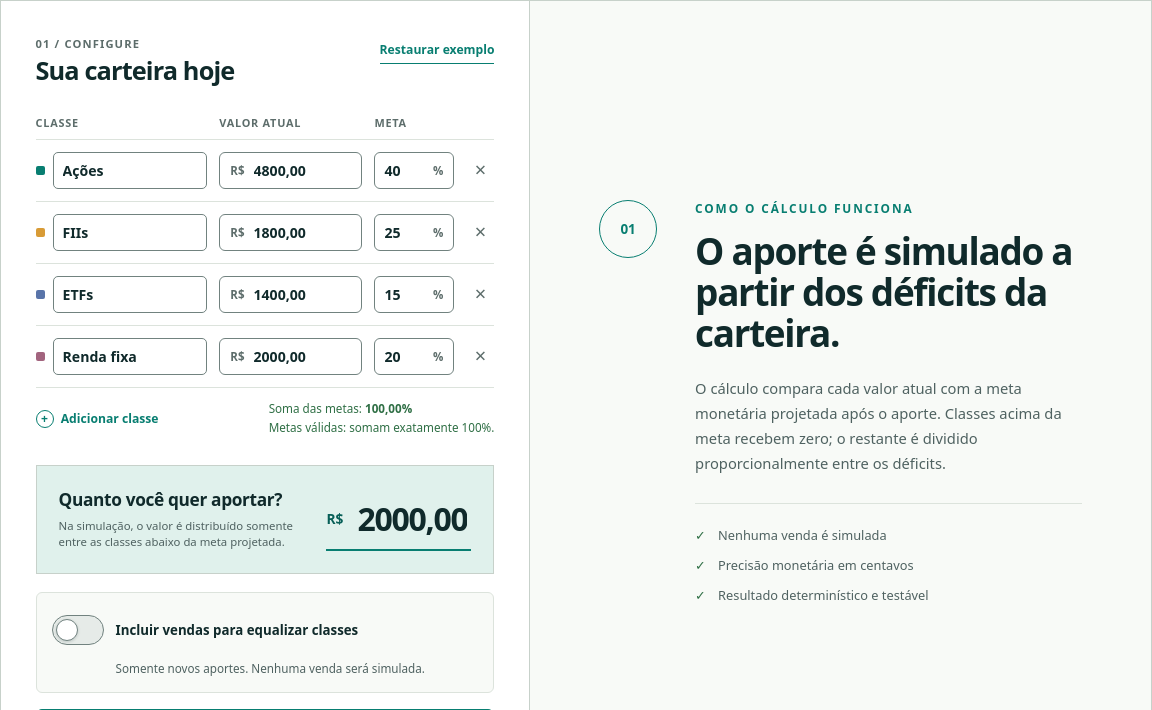
Test: ContributionSimulator › completes cents when a monetary input is confirmed
This screenshot has width=1152, height=710.
Step 1. Replace the text in the field named "Valor atual de Ações" with "4800" → coordinates (303, 170), box top-left (244, 153), bottom-right (362, 188)
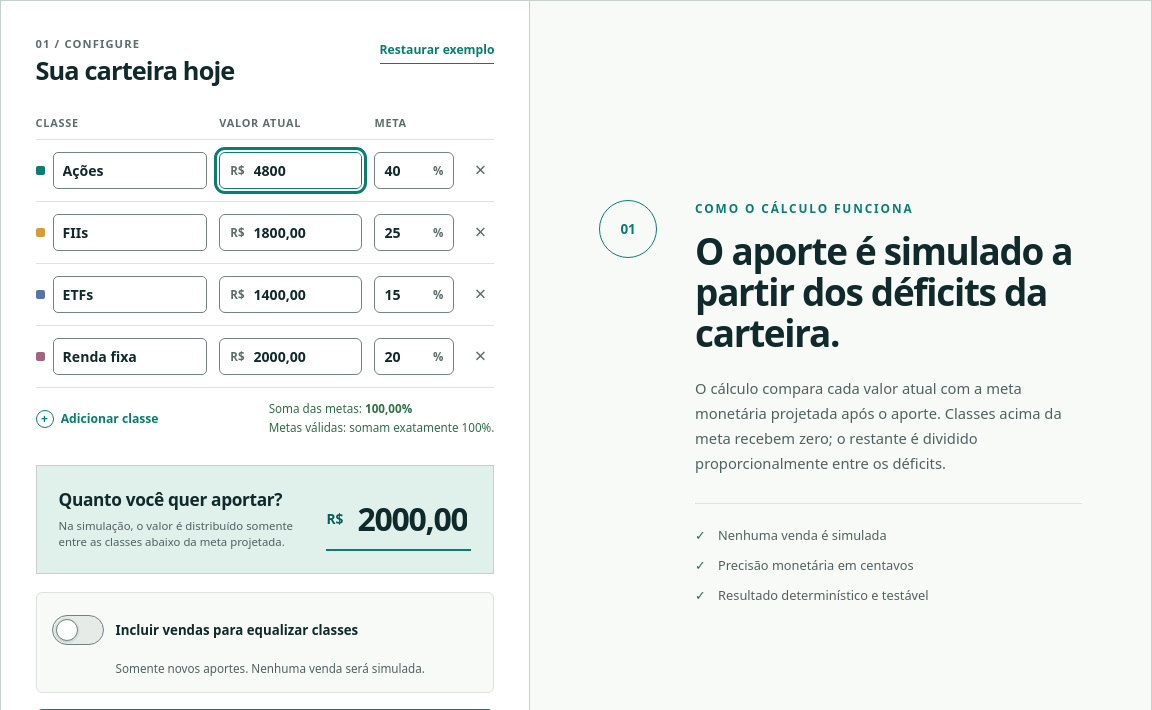
Step 2. Press Enter
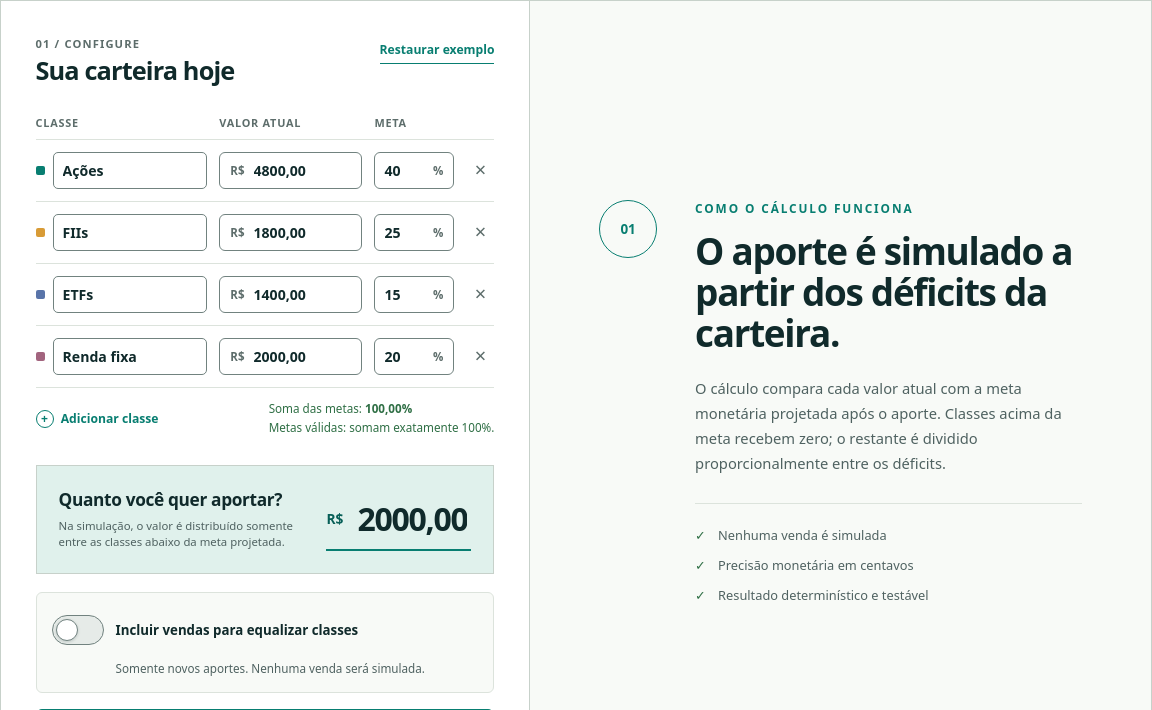
Expected: the field named "Valor atual de Ações" holds "4800,00", top-left (244, 153), bottom-right (362, 188)
Step 3. Replace the text in the field labelled "Quanto você quer aportar?" with "2500" → coordinates (407, 518), box top-left (343, 491), bottom-right (471, 546)
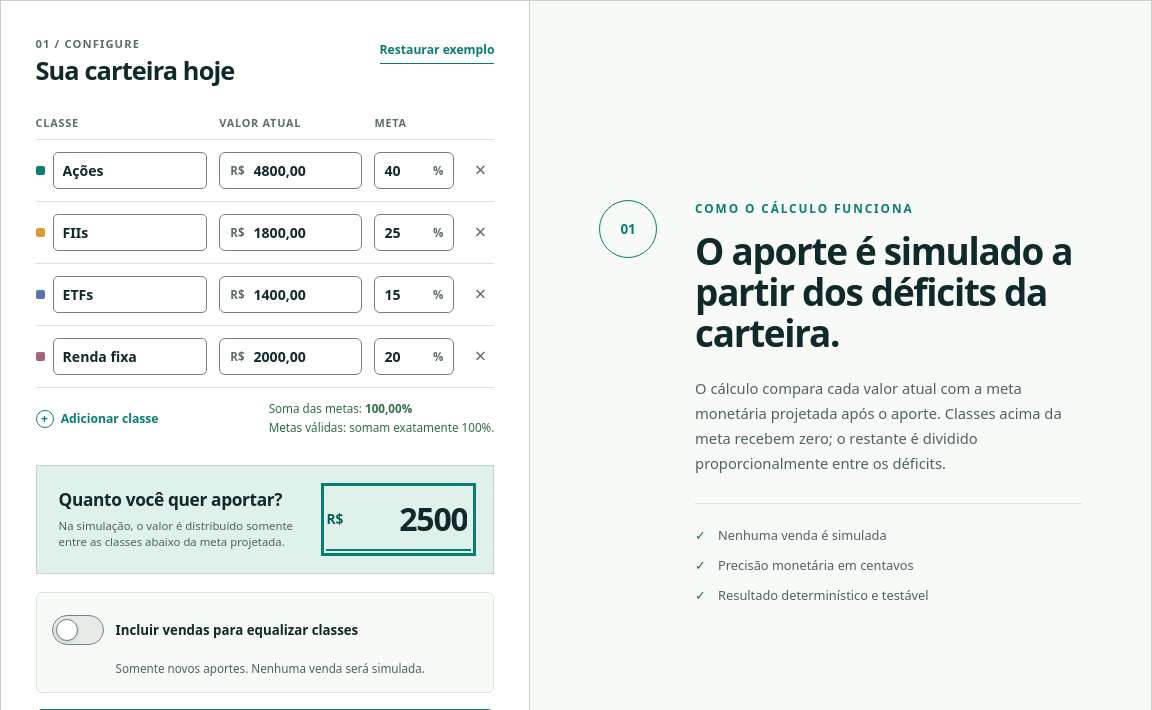
Step 4. Press Tab
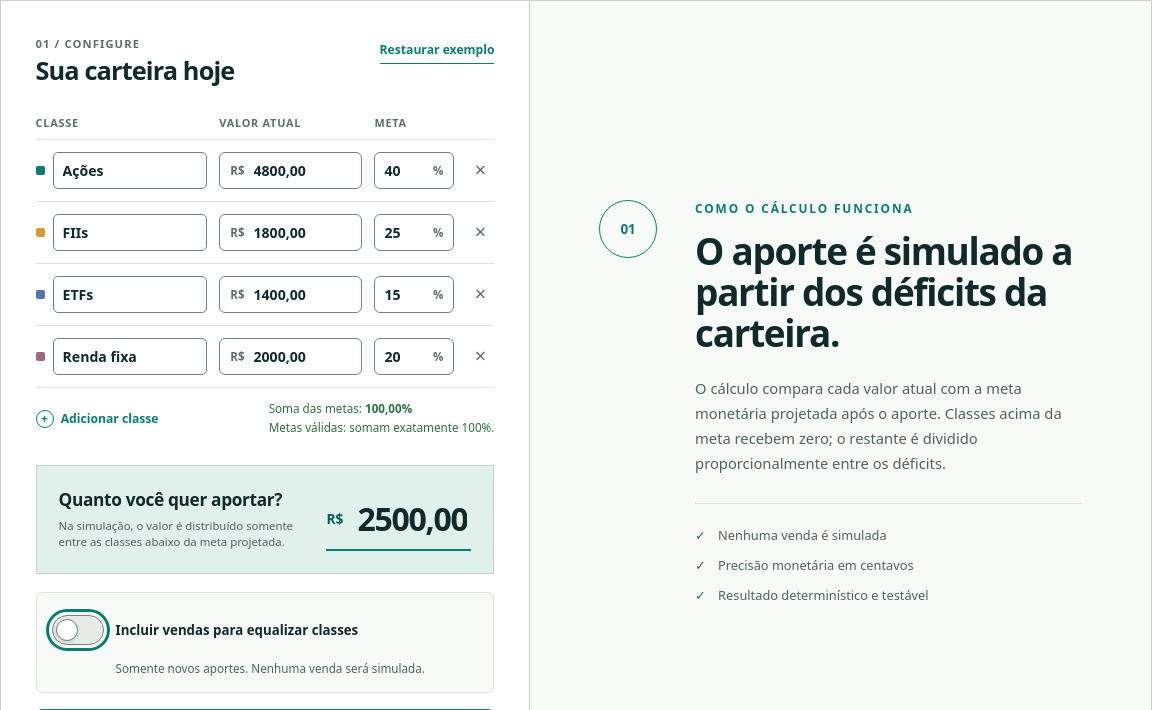
Expected: the field labelled "Quanto você quer aportar?" holds "2500,00", top-left (343, 491), bottom-right (471, 546)
